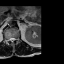CCS_normal: (11, 35, 13, 44)
LFS_normal: (15, 36, 17, 42)
LLS_normal: (13, 36, 15, 42)
RFS_normal: (7, 37, 9, 43)
RLS_normal: (9, 36, 11, 42)
